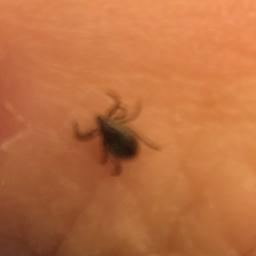Ixodes scapularis: (72, 91, 161, 176)
